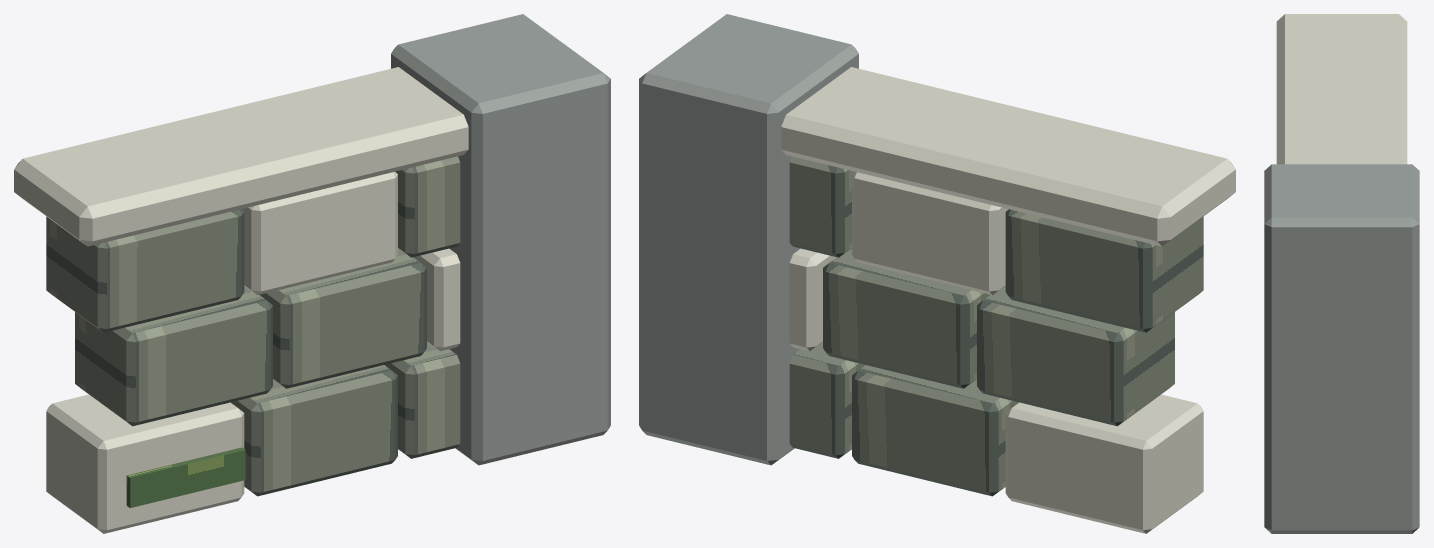
File: wall_end.glb
3 views of the same model, side by side, from view 1: azimuth 30°, elevation 25°; view 2: azimuth 150°, elevation 25°; view 3: azimuth 270°, elevation 25° (orthographic). The views are drawn at different scales.
Visible parts, largest first — view 1: Endpost, Coping.004, Wall_stone.039, Wall_stone.036, Wall_stone.042, Wall_stone.040, Wall_stone.037, Wall_stone.043, Wall_stone.038, Wall_stone.044, Moss.003, Wall_stone.041; view 2: Endpost, Coping.004, Wall_stone.036, Wall_stone.039, Wall_stone.042, Wall_stone.040, Wall_stone.037, Wall_stone.043, Wall_stone.038, Wall_stone.044, Wall_stone.041; view 3: Endpost, Coping.004.
Part boxes in pixels (x1,y1,x2,y2): Endpost: [391, 14, 610, 465]; Coping.004: [14, 67, 468, 246]; Wall_stone.039: [75, 286, 272, 426]; Wall_stone.036: [46, 394, 244, 533]; Wall_stone.042: [46, 209, 244, 332]; Wall_stone.040: [259, 248, 426, 388]; Wall_stone.037: [231, 365, 397, 496]; Wall_stone.043: [241, 171, 397, 295]; Wall_stone.038: [385, 342, 460, 458]; Wall_stone.044: [395, 156, 460, 257]; Moss.003: [126, 447, 245, 507]; Wall_stone.041: [413, 248, 460, 351]; Endpost: [639, 14, 858, 465]; Coping.004: [781, 67, 1235, 246]; Wall_stone.036: [1005, 394, 1203, 533]; Wall_stone.039: [977, 286, 1174, 426]; Wall_stone.042: [1005, 209, 1203, 332]; Wall_stone.040: [823, 248, 990, 388]; Wall_stone.037: [852, 365, 1018, 496]; Wall_stone.043: [852, 171, 1008, 295]; Wall_stone.038: [789, 342, 864, 458]; Wall_stone.044: [789, 156, 854, 257]; Wall_stone.041: [789, 248, 836, 351]; Endpost: [1264, 164, 1419, 533]; Coping.004: [1276, 14, 1407, 164].
Bounding box in the file's own units: 2.18 × 1.44 × 0.64.
4 materials, 2 textured.
